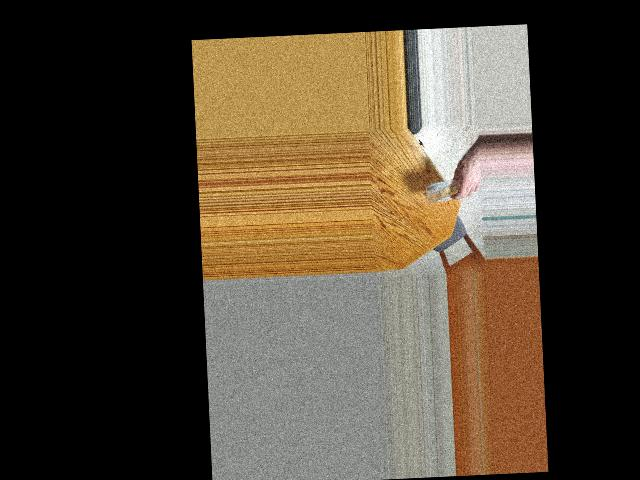cheese: (423, 161, 472, 211)
